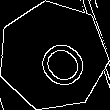O_NW: (19, 23, 87, 89)
